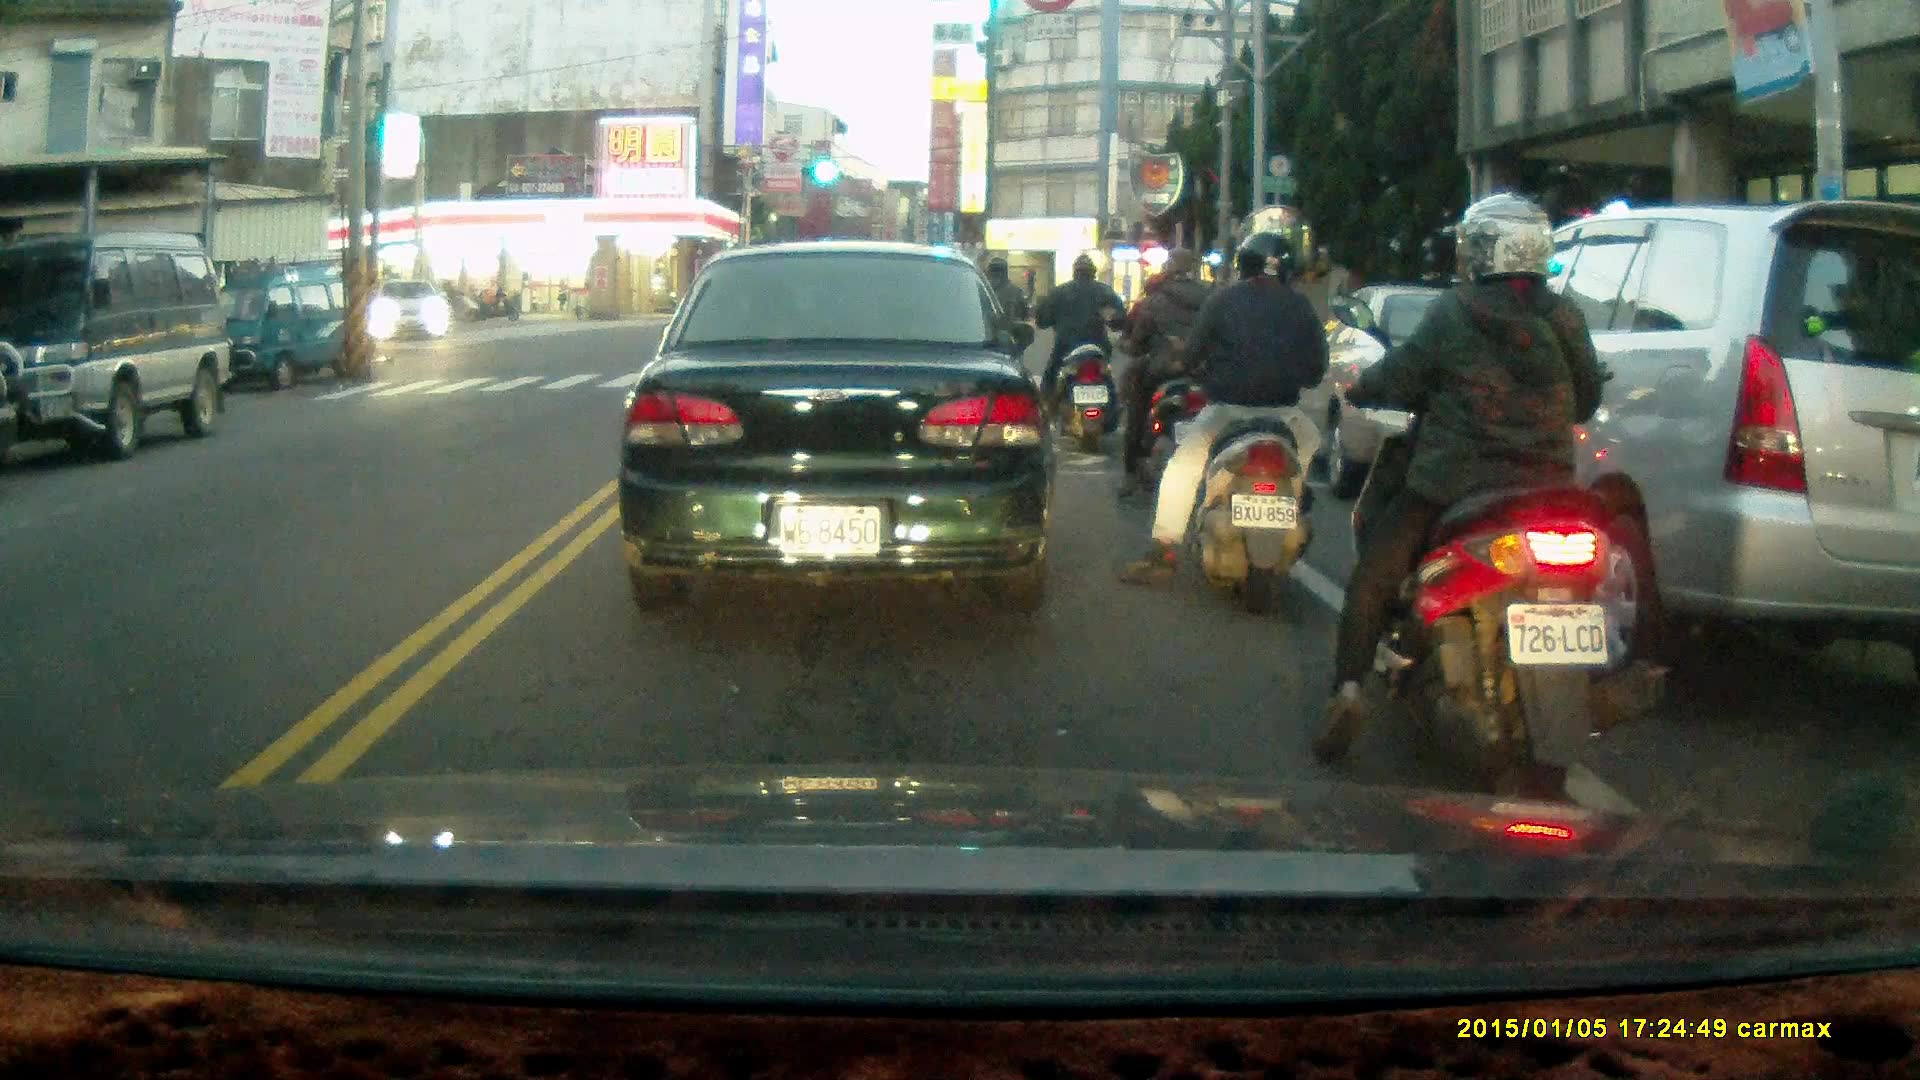rider: (1296, 192, 1641, 807), (1118, 223, 1320, 602), (1102, 246, 1225, 509), (1036, 256, 1127, 455), (966, 257, 1032, 385), (434, 278, 483, 323)
vehicle: (1391, 195, 1920, 685), (617, 243, 1050, 616), (1293, 284, 1593, 503), (1, 234, 216, 458), (192, 261, 370, 396), (372, 277, 451, 343)
